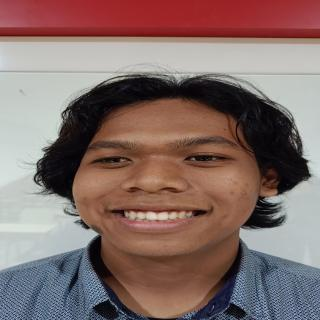Senang: (66, 96, 268, 259)
